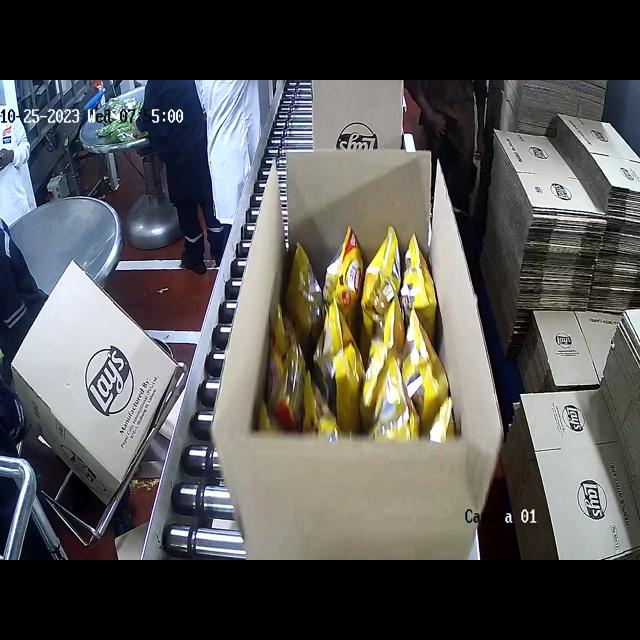salted: (286, 209, 454, 440)
